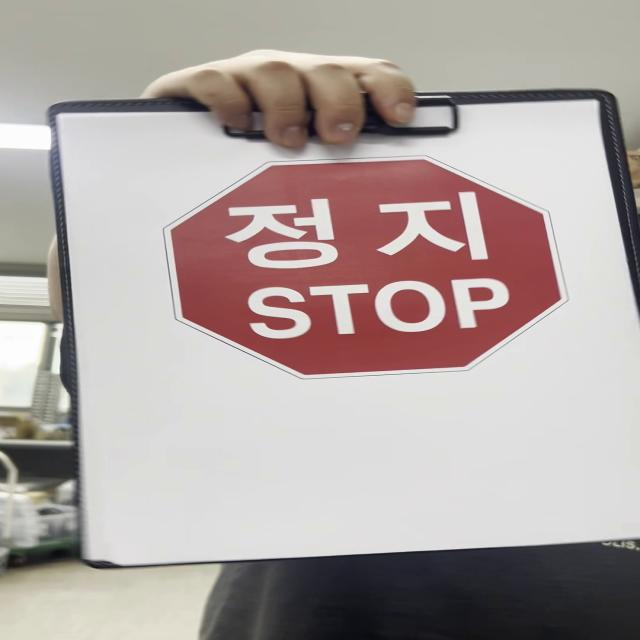stop: (160, 155, 570, 378)
